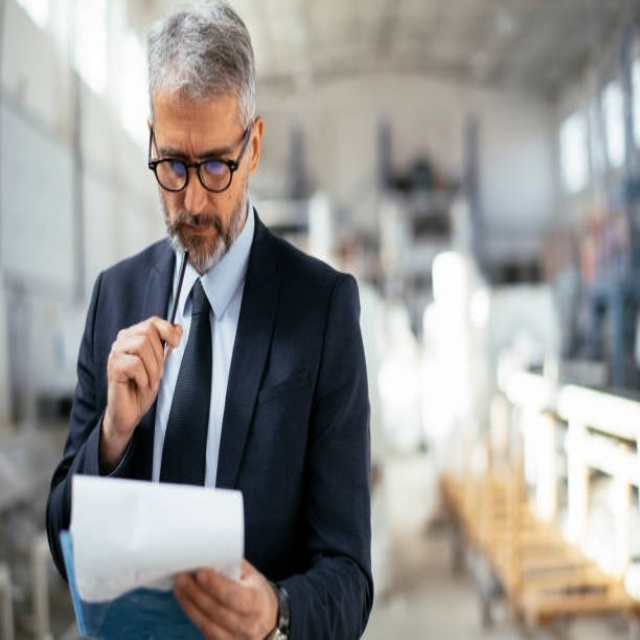Gafas: (148, 120, 252, 193)
Sin_guantes: (102, 311, 186, 431), (173, 557, 277, 640)
Sin_mascara: (174, 207, 223, 254)
